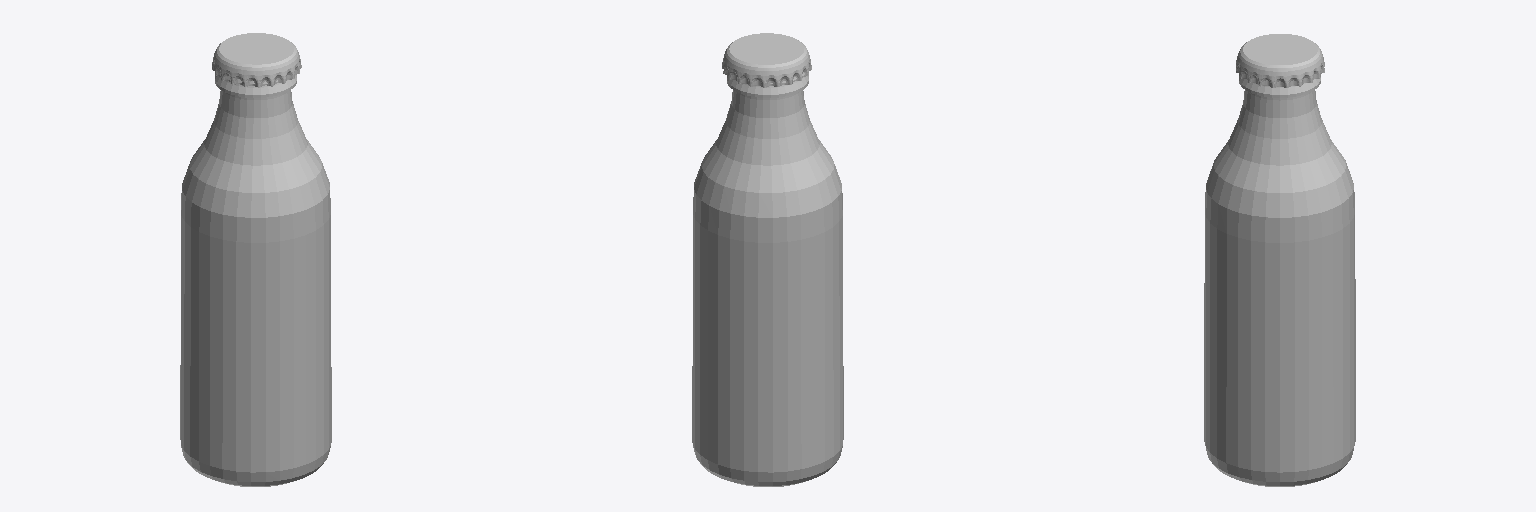
File: BOTTLE_14.obj
The picture shows the model from 3 angles: view 1: azimuth 30°, elevation 25°; view 2: azimuth 150°, elevation 25°; view 3: azimuth 270°, elevation 25°; orthographic projection.
Visible parts, largest first — view 1: Circle.005; view 2: Circle.005; view 3: Circle.005.
Boxes of the visible parts, <box> form: Circle.005: <box>180,72,331,486</box>; Circle.005: <box>692,72,843,486</box>; Circle.005: <box>1204,74,1355,486</box>.
Bounding box in the file's own units: 0.0133 × 0.0402 × 0.0133.